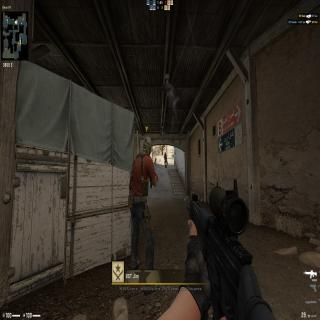CT-Head: (164, 151, 167, 156)
T-Head: (142, 134, 152, 156)
